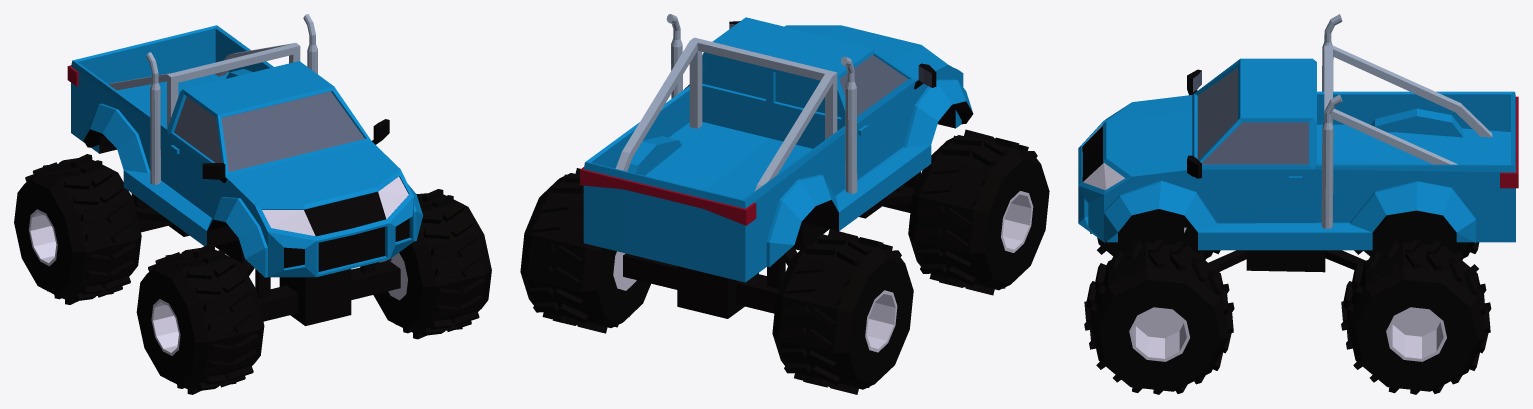
Rendered from Monster_Truck.gltf.
The picture shows the model from 3 angles, left to right: view 1: azimuth 30°, elevation 25°; view 2: azimuth 150°, elevation 25°; view 3: azimuth 270°, elevation 25°; orthographic projection. The views are drawn at different scales.
Parts seen in each view (by area): view 1: Monster_Truck, Monster_Truck_wheel_front_right, Monster_Truck_wheel_rear_right, Monster_Truck_wheel_front_left; view 2: Monster_Truck, Monster_Truck_wheel_rear_right, Monster_Truck_wheel_front_right, Monster_Truck_wheel_rear_left; view 3: Monster_Truck, Monster_Truck_wheel_rear_left, Monster_Truck_wheel_front_left, Monster_Truck_wheel_rear_right, Monster_Truck_wheel_front_right.
Boxes of the visible parts, left/top/right/bottom form: Monster_Truck: left=67, top=14, right=423, bottom=325; Monster_Truck_wheel_front_right: left=136, top=244, right=264, bottom=394; Monster_Truck_wheel_rear_right: left=14, top=154, right=141, bottom=304; Monster_Truck_wheel_front_left: left=373, top=189, right=491, bottom=339; Monster_Truck: left=580, top=14, right=973, bottom=318; Monster_Truck_wheel_rear_right: left=772, top=229, right=913, bottom=394; Monster_Truck_wheel_front_right: left=908, top=129, right=1049, bottom=295; Monster_Truck_wheel_rear_left: left=520, top=168, right=650, bottom=333; Monster_Truck: left=1078, top=14, right=1518, bottom=272; Monster_Truck_wheel_rear_left: left=1341, top=239, right=1491, bottom=394; Monster_Truck_wheel_front_left: left=1084, top=239, right=1234, bottom=394; Monster_Truck_wheel_rear_right: left=1354, top=227, right=1479, bottom=260; Monster_Truck_wheel_front_right: left=1090, top=227, right=1220, bottom=260.
Size of the model in its own units: 447 by 373 by 549.
